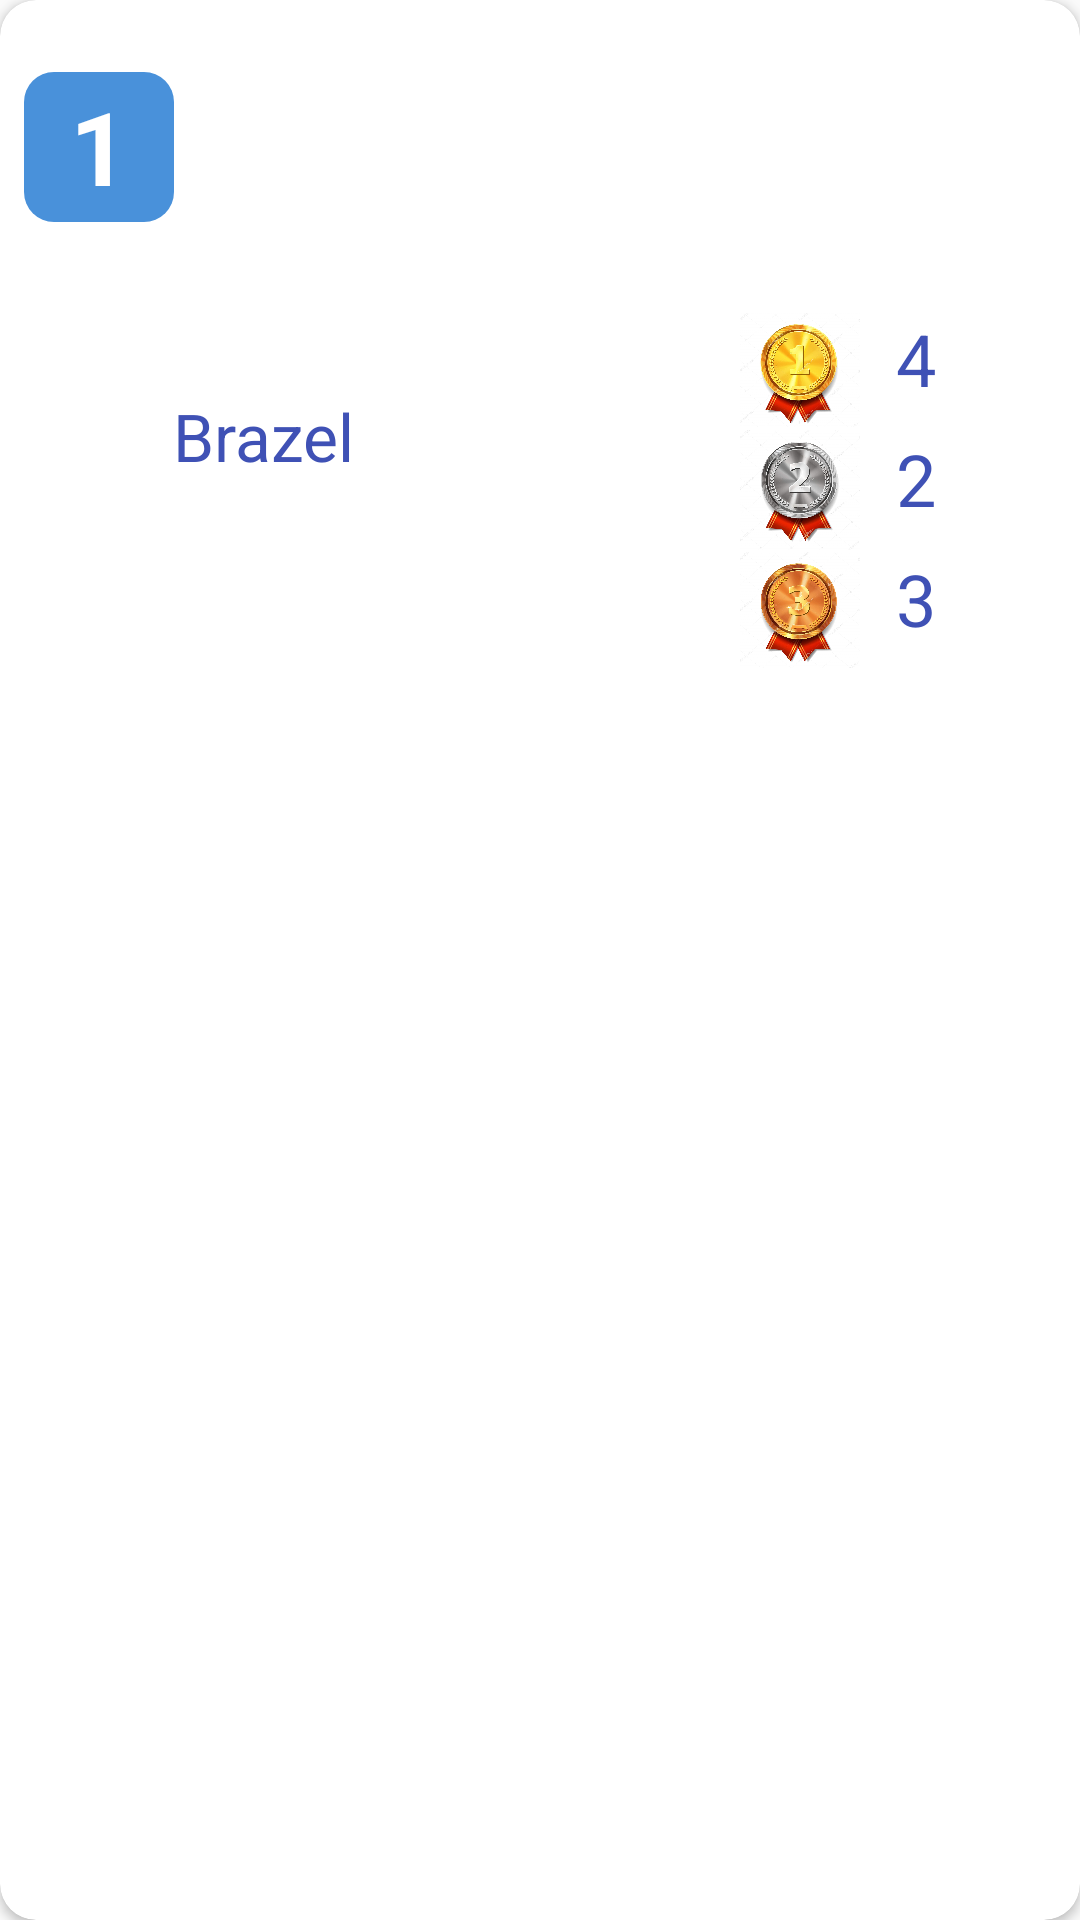

Screen size 1080 × 1920. Icon name, then its box in pixels as (x1, y1, x2, y2):
bronze medal tokyo: (761, 563, 837, 662)
gold medal tokyo: (760, 324, 837, 423)
silver medal tokyo: (761, 442, 838, 541)
